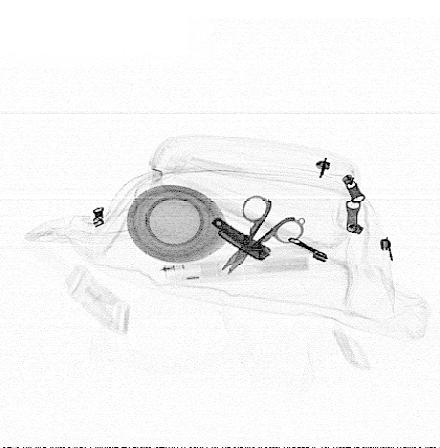Scissors: (220, 194, 305, 275)
